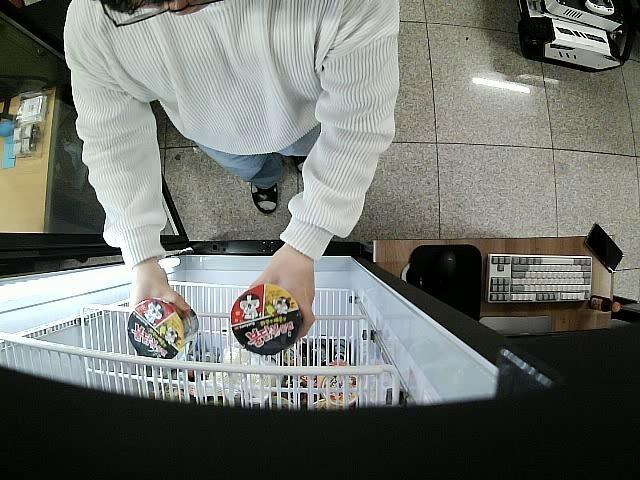08_buldak_S: (231, 284, 303, 354), (128, 297, 198, 360)
